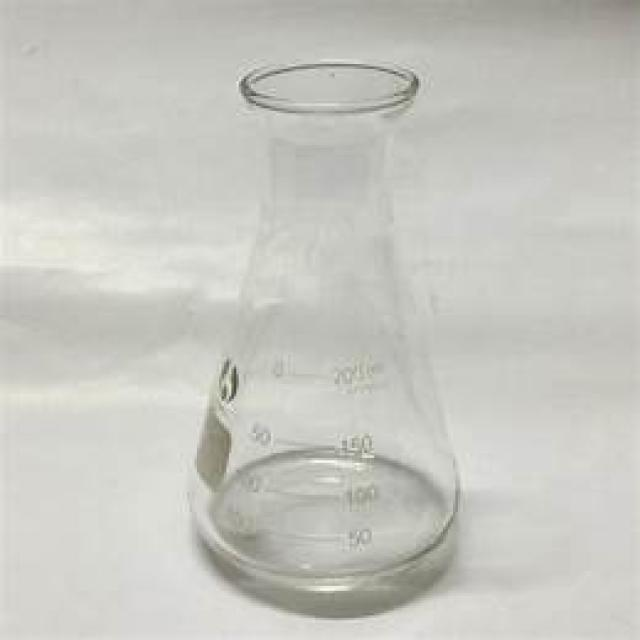Titrarion: (188, 64, 468, 595)
